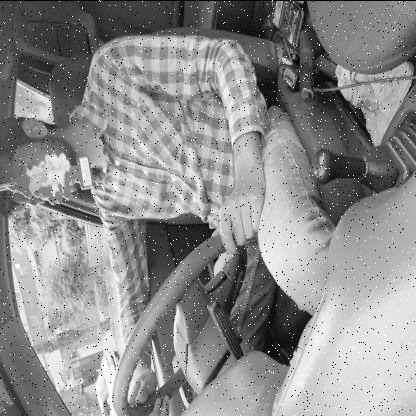no_seatbelt: (6, 98, 207, 232)
